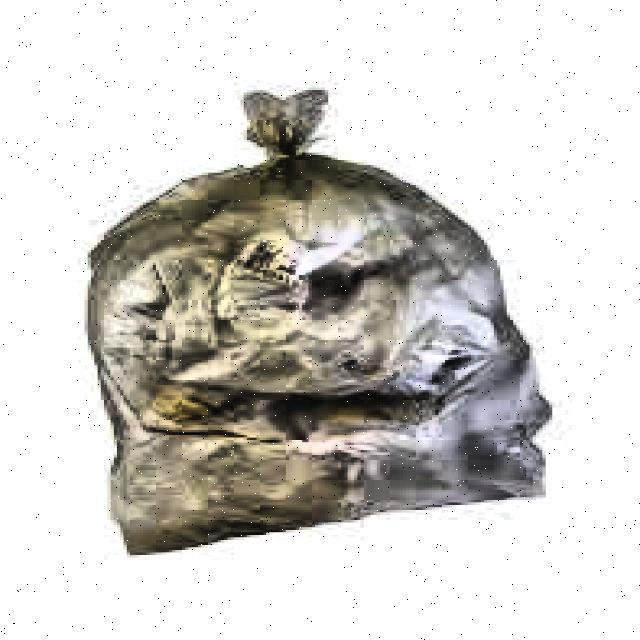Trashbag: (85, 65, 557, 567)
